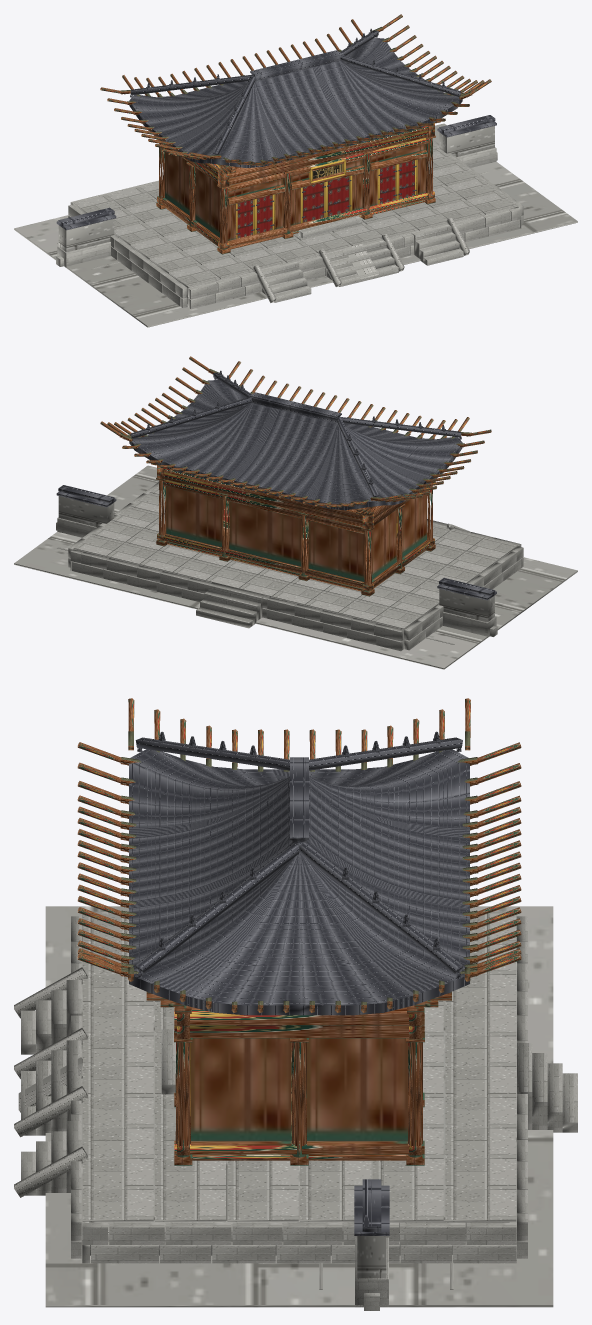
3 renders of one model, top to bottom at view 1: azimuth 30°, elevation 25°; view 2: azimuth 150°, elevation 25°; view 3: azimuth 270°, elevation 25°, orthographic. The views are drawn at different scales.
Parts seen in each view (by area): view 1: 11140_02_04519_001_01__wolldae_granite_platform, 11140_02_04519_001_03__ujingak_roof_giwa, 11140_02_04519_001_02__munru_timber_frame, 11140_02_04519_001_06__bakseok_plaza_paving, 11140_02_04519_001_03__seokkarae_buyeon_double_eave, 11140_02_04519_001_05__panmun_red_lacquer_3sets, 11140_02_04519_001_06__gungjang_stone_wall, 11140_02_04519_001_03__yongmaru_japsang_punggyeong, 11140_02_04519_001_06__gungjang_tile_cap; view 2: 11140_02_04519_001_01__wolldae_granite_platform, 11140_02_04519_001_03__ujingak_roof_giwa, 11140_02_04519_001_02__munru_timber_frame, 11140_02_04519_001_06__bakseok_plaza_paving, 11140_02_04519_001_03__seokkarae_buyeon_double_eave, 11140_02_04519_001_06__gungjang_stone_wall, 11140_02_04519_001_03__yongmaru_japsang_punggyeong, 11140_02_04519_001_06__gungjang_tile_cap; view 3: 11140_02_04519_001_01__wolldae_granite_platform, 11140_02_04519_001_03__ujingak_roof_giwa, 11140_02_04519_001_02__munru_timber_frame, 11140_02_04519_001_06__bakseok_plaza_paving, 11140_02_04519_001_03__seokkarae_buyeon_double_eave, 11140_02_04519_001_03__yongmaru_japsang_punggyeong, 11140_02_04519_001_06__gungjang_stone_wall, 11140_02_04519_001_06__gungjang_tile_cap, 11140_02_04519_001_03__dapo_gongpo_36sets.
Part boxes in pixels (<box>): 11140_02_04519_001_01__wolldae_granite_platform: <box>68,140,523,308</box>; 11140_02_04519_001_03__ujingak_roof_giwa: <box>129,38,462,168</box>; 11140_02_04519_001_02__munru_timber_frame: <box>156,123,435,254</box>; 11140_02_04519_001_06__bakseok_plaza_paving: <box>14,123,577,327</box>; 11140_02_04519_001_03__seokkarae_buyeon_double_eave: <box>100,14,491,165</box>; 11140_02_04519_001_05__panmun_red_lacquer_3sets: <box>236,159,417,238</box>; 11140_02_04519_001_06__gungjang_stone_wall: <box>56,126,497,267</box>; 11140_02_04519_001_03__yongmaru_japsang_punggyeong: <box>130,28,461,158</box>; 11140_02_04519_001_06__gungjang_tile_cap: <box>56,115,496,230</box>; 11140_02_04519_001_01__wolldae_granite_platform: <box>68,482,523,651</box>; 11140_02_04519_001_03__ujingak_roof_giwa: <box>129,380,462,510</box>; 11140_02_04519_001_02__munru_timber_frame: <box>156,465,435,596</box>; 11140_02_04519_001_06__bakseok_plaza_paving: <box>14,465,577,669</box>; 11140_02_04519_001_03__seokkarae_buyeon_double_eave: <box>100,356,491,507</box>; 11140_02_04519_001_06__gungjang_stone_wall: <box>56,496,497,637</box>; 11140_02_04519_001_03__yongmaru_japsang_punggyeong: <box>130,370,461,497</box>; 11140_02_04519_001_06__gungjang_tile_cap: <box>56,485,496,600</box>; 11140_02_04519_001_01__wolldae_granite_platform: <box>14,911,577,1263</box>; 11140_02_04519_001_03__ujingak_roof_giwa: <box>129,749,469,1015</box>; 11140_02_04519_001_02__munru_timber_frame: <box>174,1007,424,1165</box>; 11140_02_04519_001_06__bakseok_plaza_paving: <box>45,906,553,1307</box>; 11140_02_04519_001_03__seokkarae_buyeon_double_eave: <box>77,698,521,1013</box>; 11140_02_04519_001_03__yongmaru_japsang_punggyeong: <box>135,731,462,978</box>; 11140_02_04519_001_06__gungjang_stone_wall: <box>355,1236,388,1310</box>; 11140_02_04519_001_06__gungjang_tile_cap: <box>354,1179,389,1235</box>; 11140_02_04519_001_03__dapo_gongpo_36sets: <box>146,992,451,1013</box>.
Bounding box in the file's own units: 26.44 × 9.45 × 15.55.
Materials: 7 (7 with a texture image).
